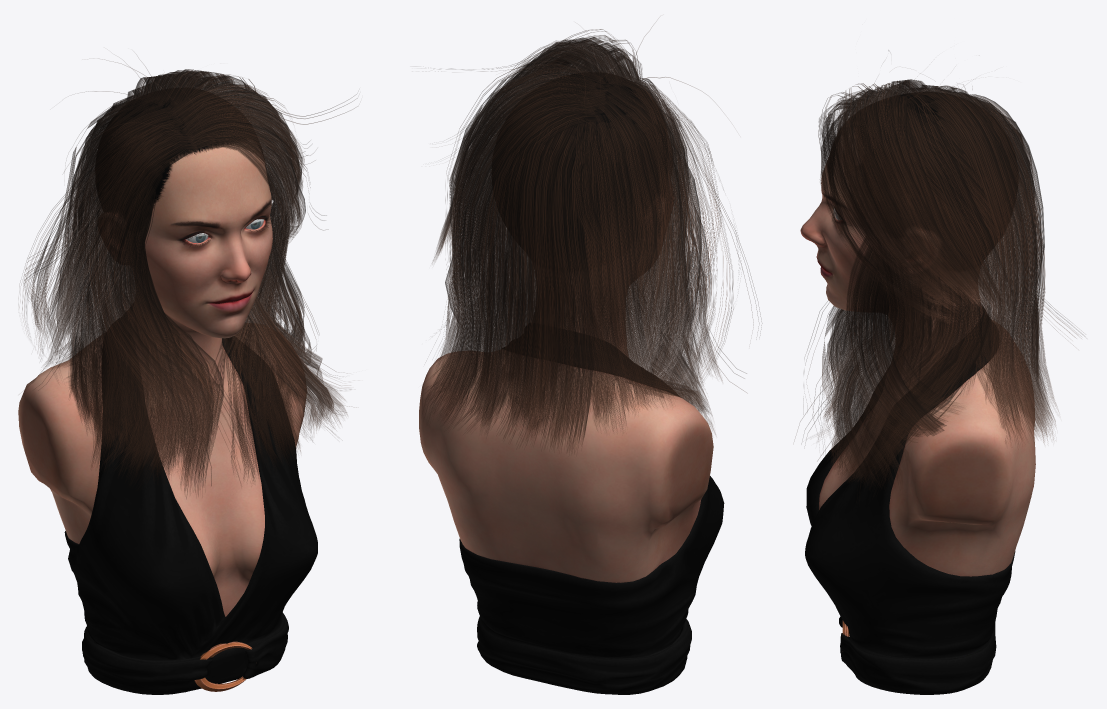
File: Sela.glb
The picture shows the model from 3 angles, left to right: view 1: azimuth 30°, elevation 25°; view 2: azimuth 150°, elevation 25°; view 3: azimuth 270°, elevation 25°; orthographic projection. The views are drawn at different scales.
Visible parts, largest first — view 1: Object_10, Object_7, Object_6, Object_8; view 2: Object_10, Object_7, Object_6; view 3: Object_10, Object_7, Object_6.
Part boxes in pixels (x1,y1,x2,y2): Object_10: (22,65,357,498); Object_7: (18,91,306,616); Object_6: (64,321,317,694); Object_8: (194,641,252,691); Object_10: (422,26,760,453); Object_7: (419,73,713,582); Object_6: (459,330,724,694); Object_10: (800,50,1082,496); Object_7: (800,92,1035,576); Object_6: (805,307,1015,694).
Bounding box in the file's own units: 294 × 508 × 225.
Materials: 4 (3 with a texture image).
